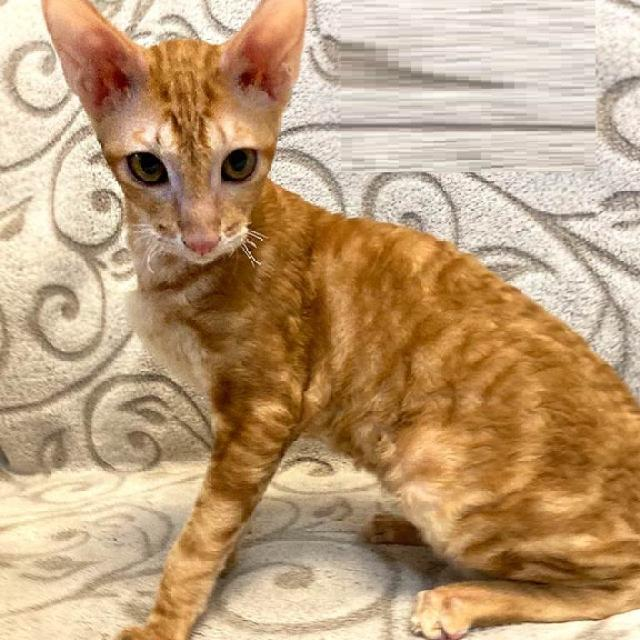Cornish Rex: (34, 0, 640, 640)
